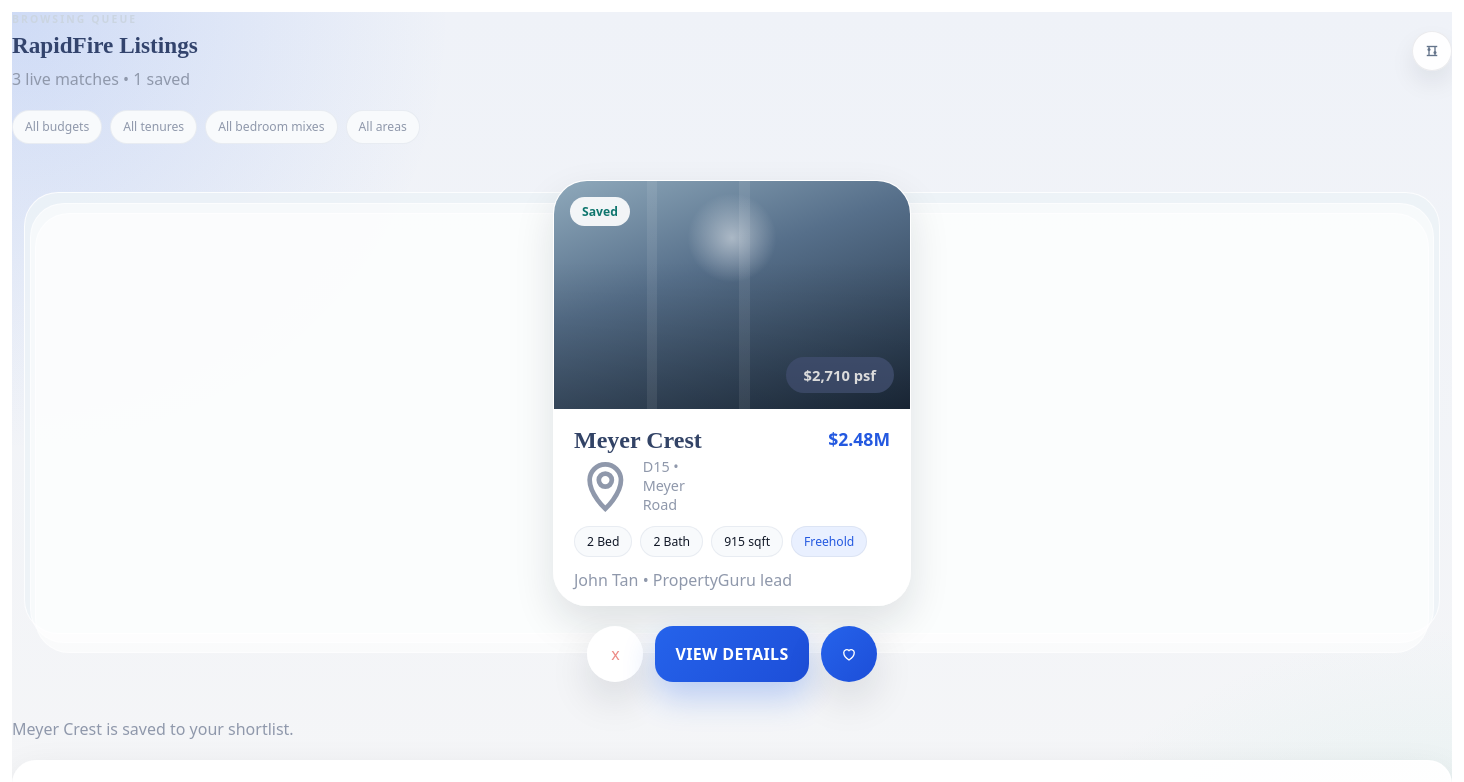
it: ListingsBrowser › filters listings, saves the active match, and dismisses it from the queue
Expected: the heading "Meyer Crest" is shown, top-left (574, 427), bottom-right (702, 454)
Step 1. Click the button "All areas" → (383, 127), box top-left (346, 110), bottom-right (420, 144)
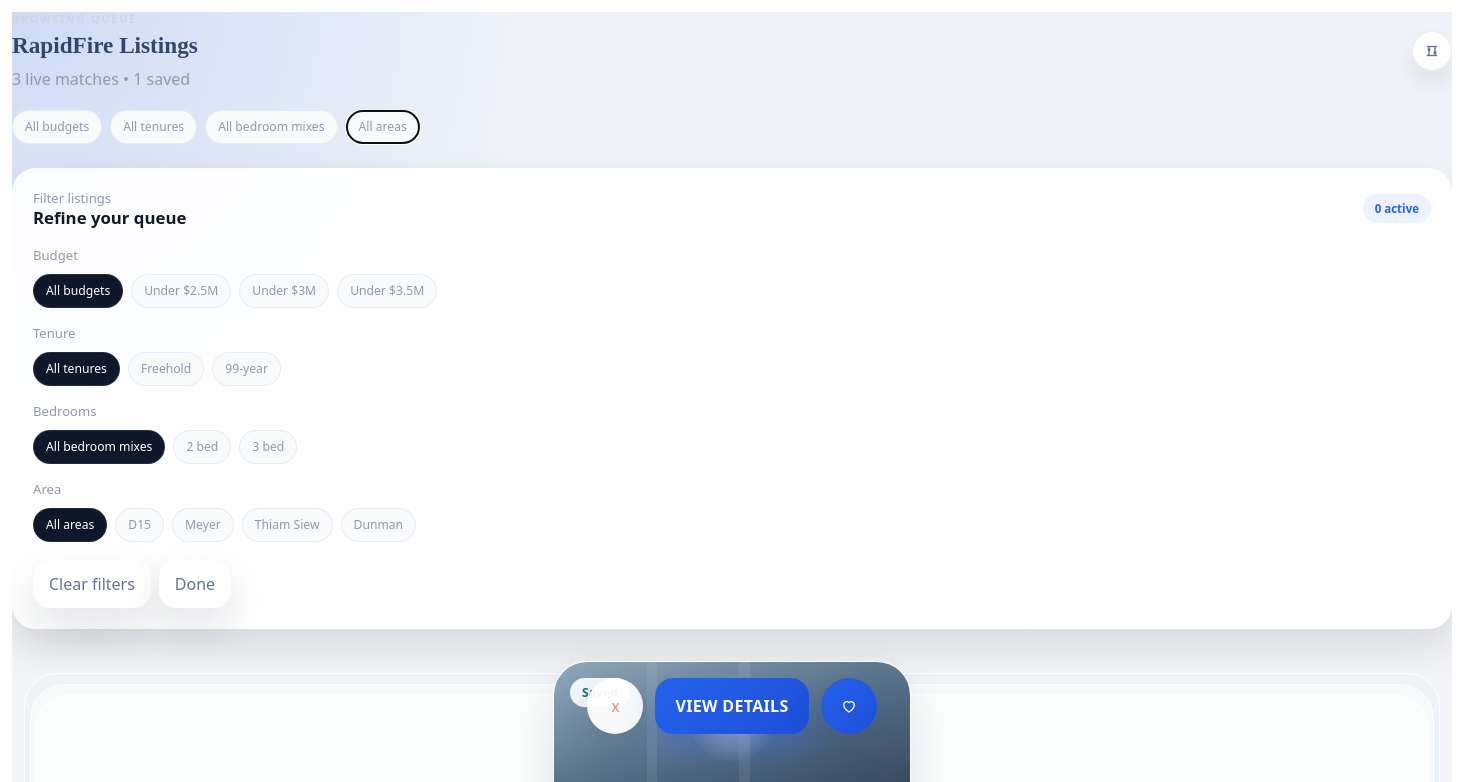
Expected: the heading "Refine your queue" is shown, top-left (33, 207), bottom-right (186, 228)
Step 2. Click the button "Dunman" → (378, 525), box top-left (340, 508), bottom-right (416, 542)
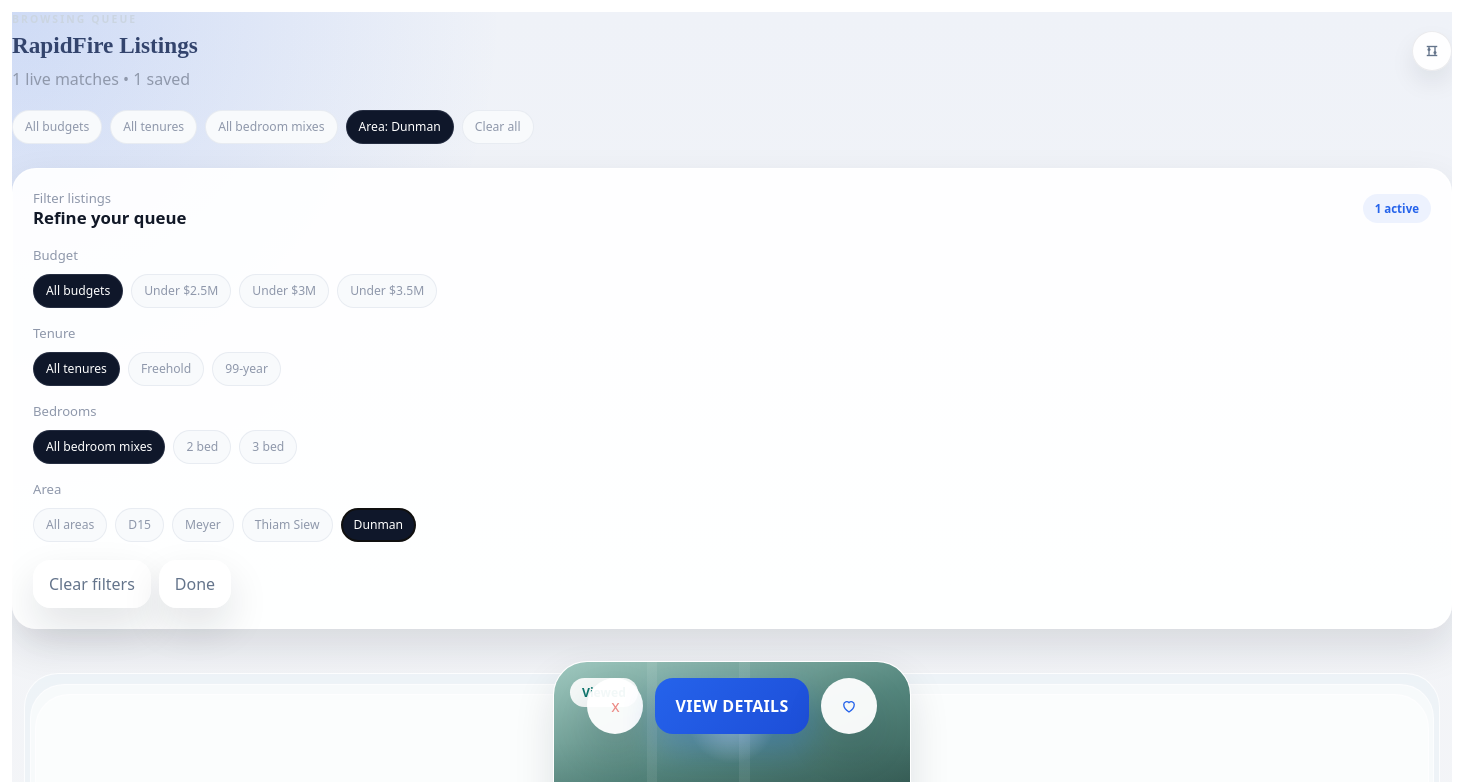
Expected: the button "Area: Dunman" is shown, top-left (346, 110), bottom-right (454, 144)
Expected: the text "1 live matches • 1 saved" is shown, top-left (12, 68), bottom-right (198, 90)
Step 3. Click the button named "Save Grand Dunman to shortlist" → (849, 706), box top-left (821, 678), bottom-right (877, 734)
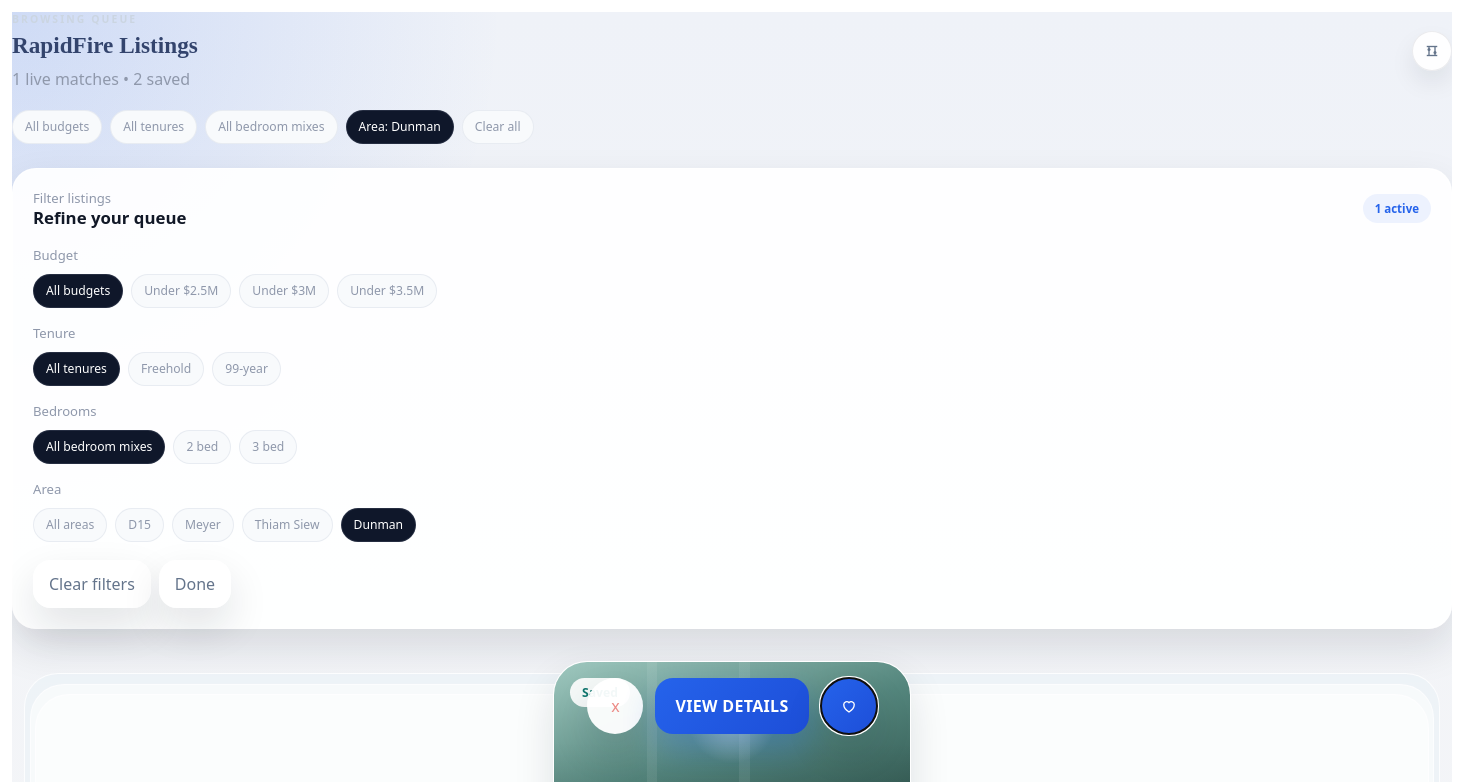
Expected: the button named "Remove Grand Dunman from shortlist" is pressed, top-left (821, 678), bottom-right (877, 734)
Step 4. Click the button named "Reject Grand Dunman" → (615, 706), box top-left (587, 678), bottom-right (643, 734)
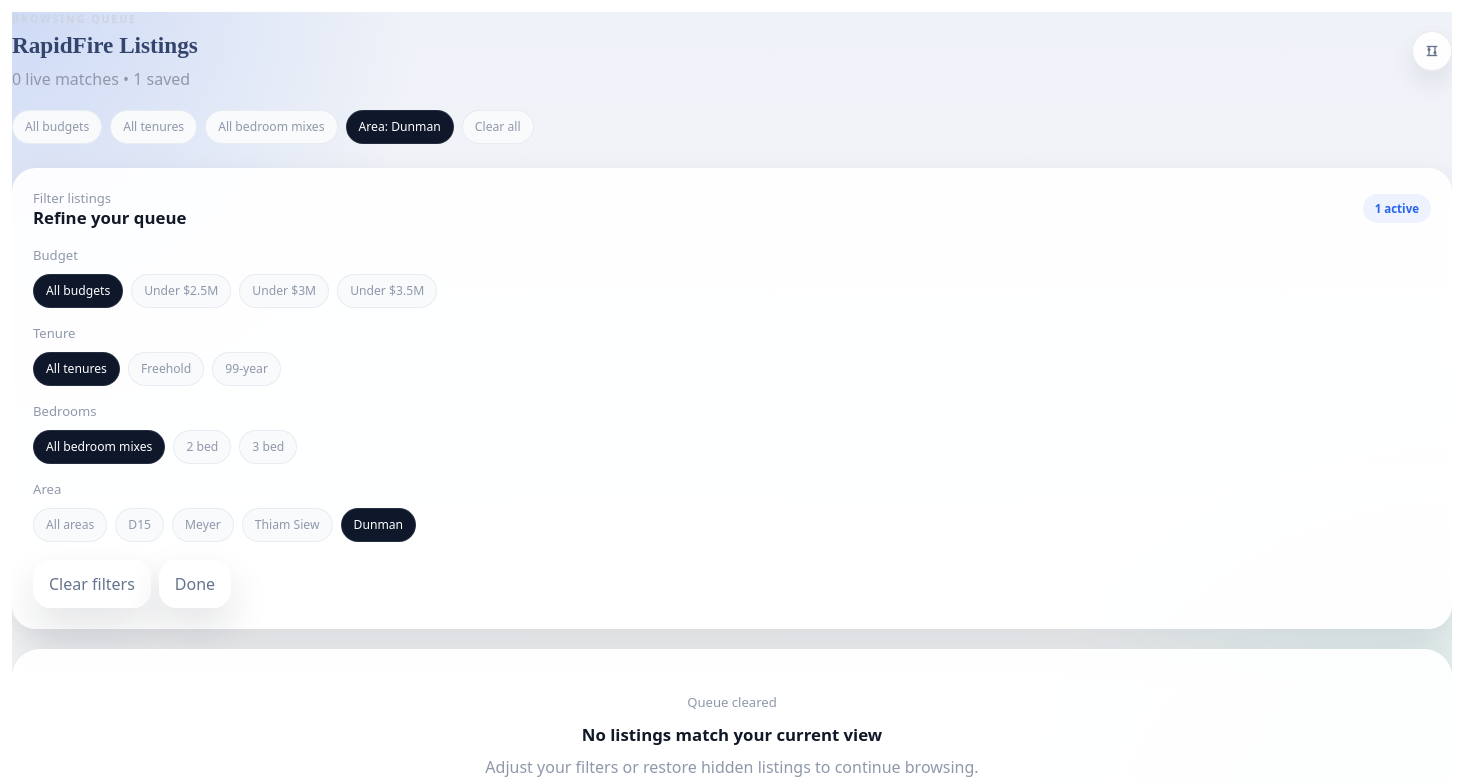
Expected: the heading "No listings match your current view" is shown, top-left (582, 723), bottom-right (882, 746)
